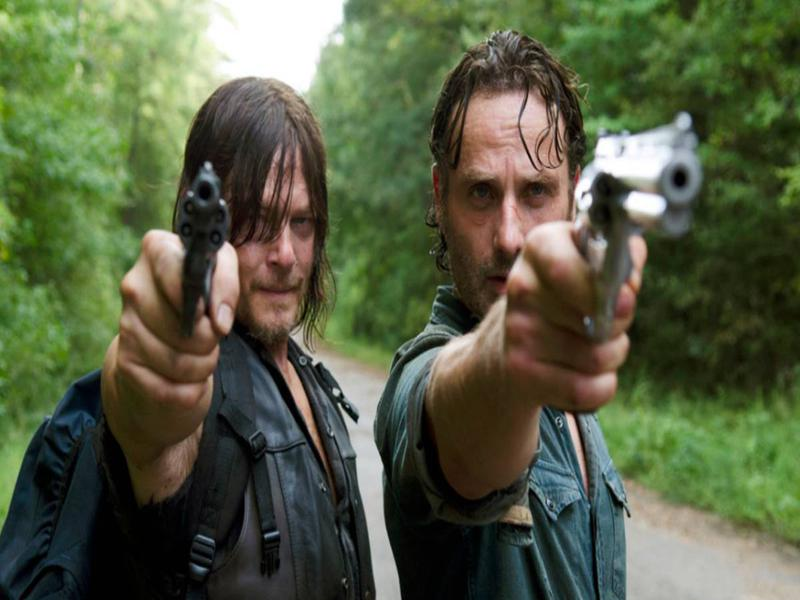Revolver: (563, 122, 718, 348), (172, 154, 234, 337)
